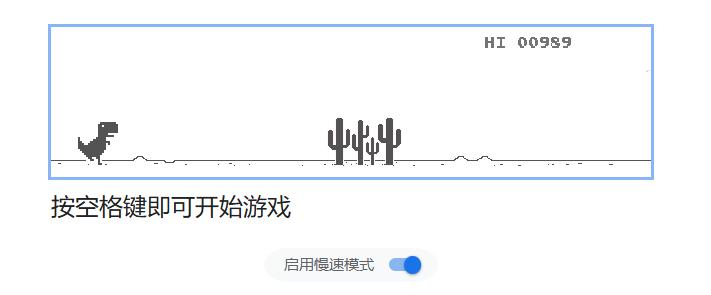cactus: (327, 118, 404, 168)
dino: (75, 121, 119, 165)
